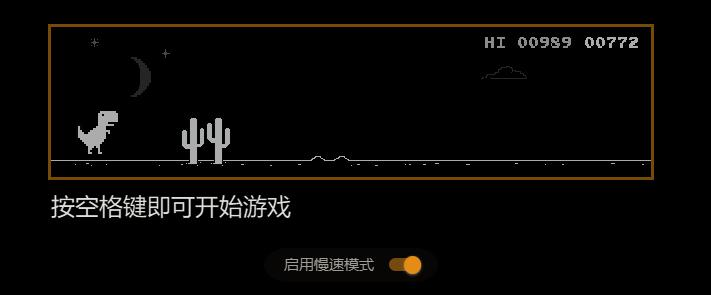cactus: (180, 117, 231, 166)
dino: (75, 110, 120, 154)
